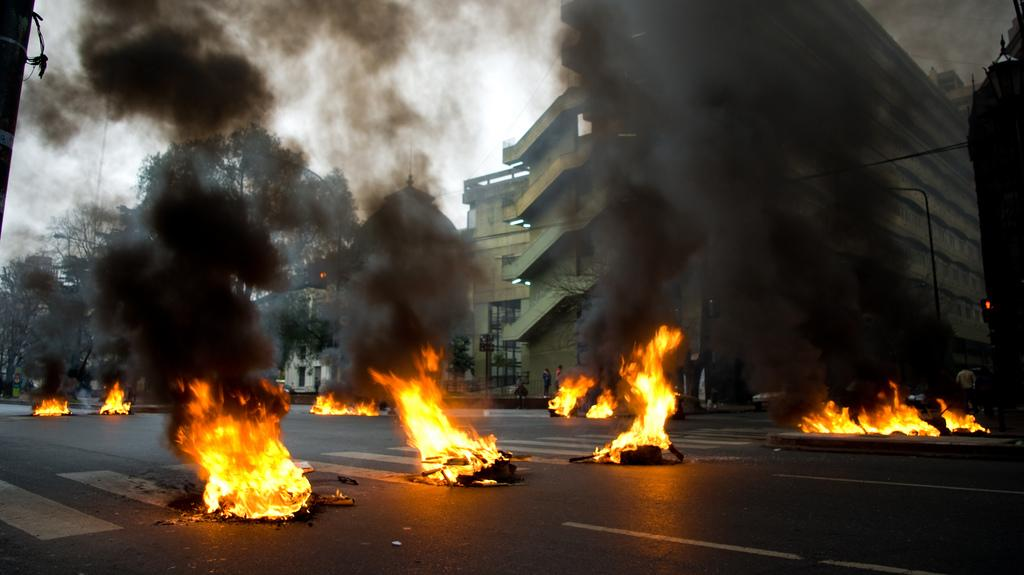fire: (207, 471, 307, 516), (816, 407, 926, 433), (419, 421, 469, 471), (640, 387, 667, 450)
smoke: (114, 256, 243, 376)
